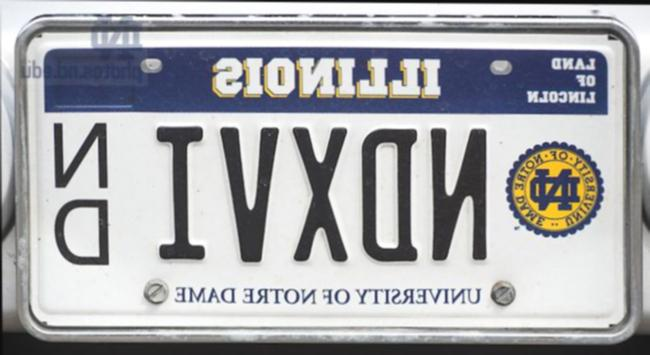License_Plate: (27, 12, 635, 340)
